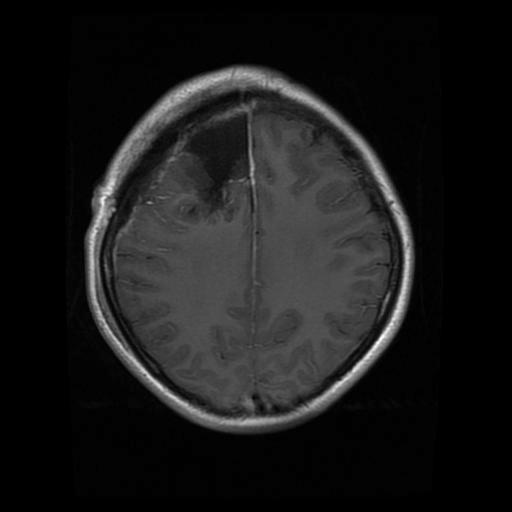Tumour-Glioma: (159, 126, 286, 230)
